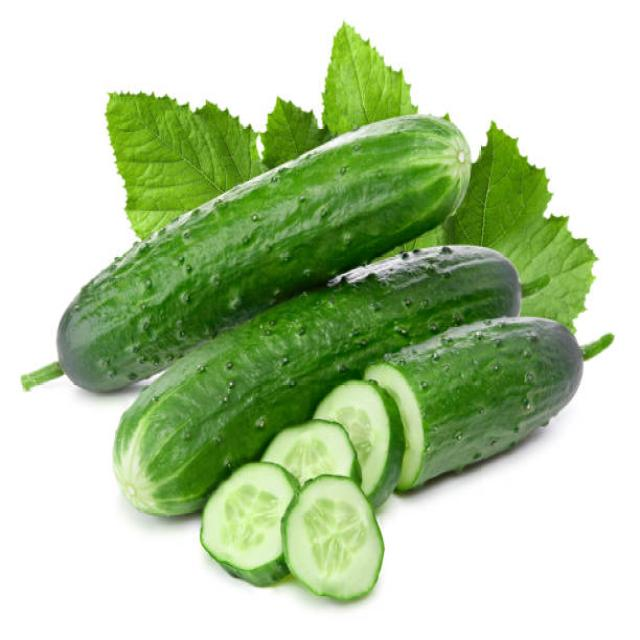cucumber: (56, 113, 471, 394), (113, 245, 522, 515), (366, 317, 582, 493)
